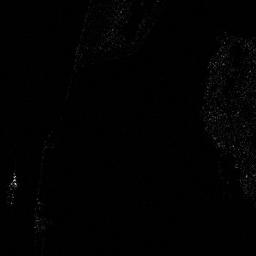ship: (7, 173, 19, 205)
